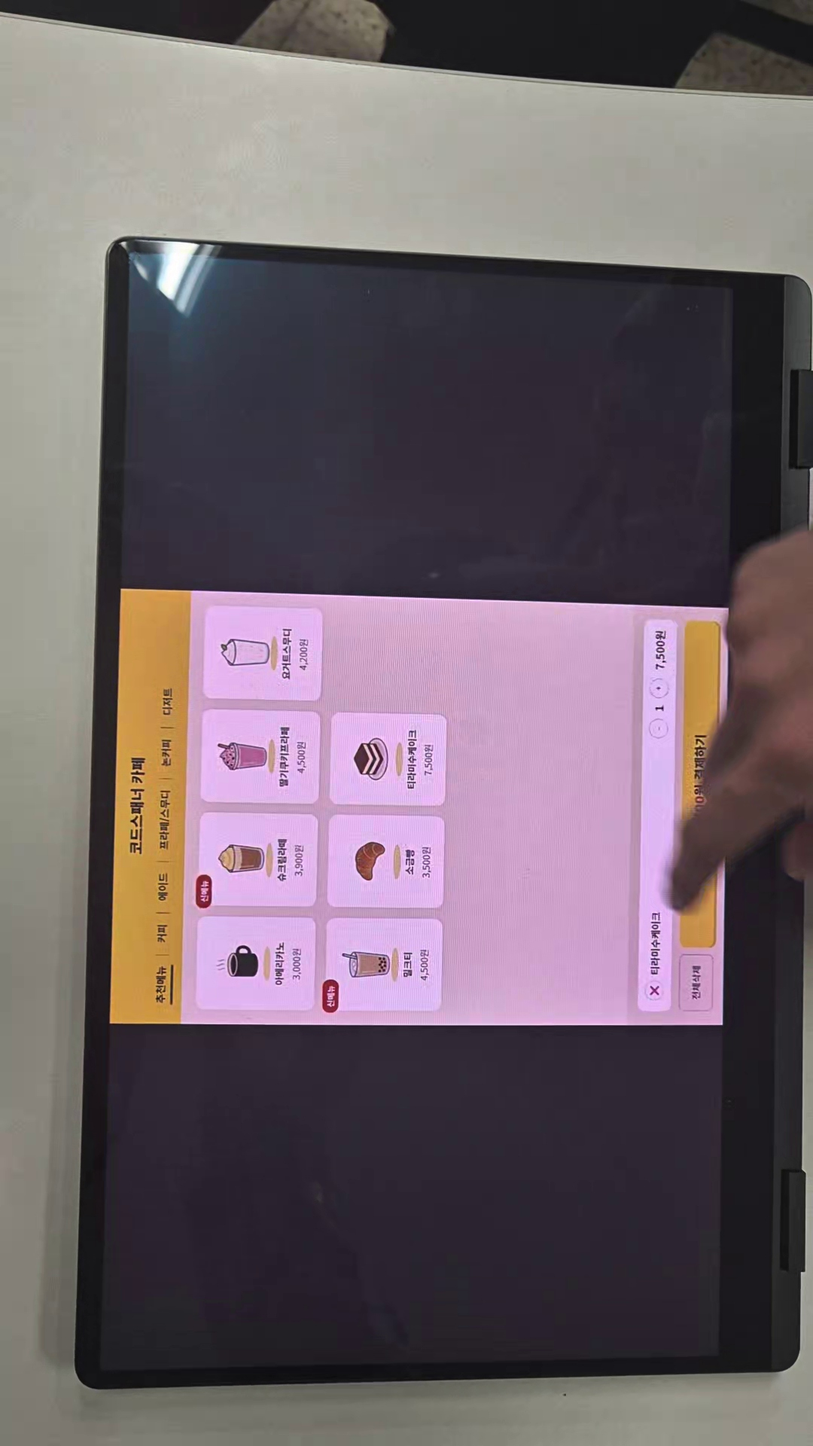action_button: (681, 618, 716, 948), (681, 956, 713, 1012)
cart_item: (643, 616, 676, 1012)
category_tab: (156, 788, 177, 853), (150, 965, 169, 1005), (159, 683, 175, 720), (153, 872, 172, 902), (157, 734, 173, 769), (155, 920, 169, 950)
menu_back: (327, 711, 449, 810), (196, 915, 314, 1012), (202, 709, 320, 804), (203, 607, 321, 700), (327, 815, 445, 908), (198, 814, 318, 904), (327, 919, 443, 1012)
menu_name: (274, 720, 297, 790), (403, 728, 418, 793), (281, 626, 297, 685), (274, 834, 290, 887), (273, 935, 288, 988), (403, 842, 420, 879), (403, 946, 416, 980)
menu_price: (295, 738, 312, 778), (291, 842, 306, 879), (421, 841, 433, 887), (419, 944, 433, 983), (423, 740, 436, 781), (291, 944, 304, 982), (299, 638, 311, 677)
